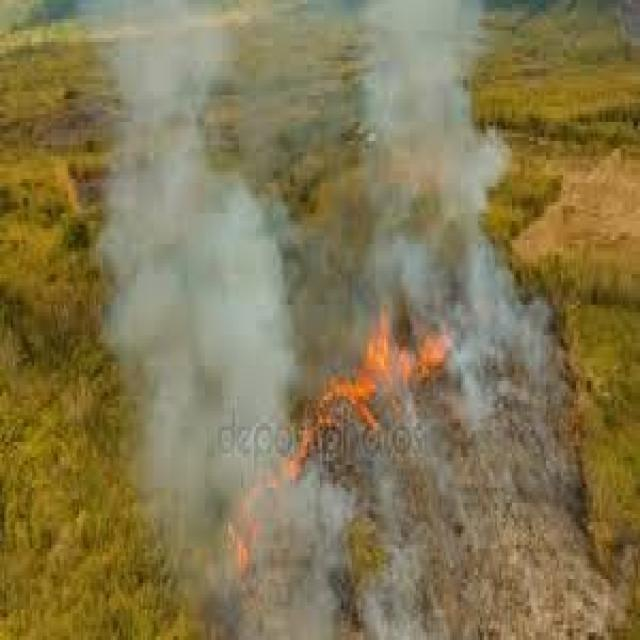Fire: (314, 304, 452, 418)
Smoke: (85, 0, 296, 337), (368, 413, 617, 640), (121, 340, 307, 640), (328, 0, 512, 302), (452, 301, 586, 415)
